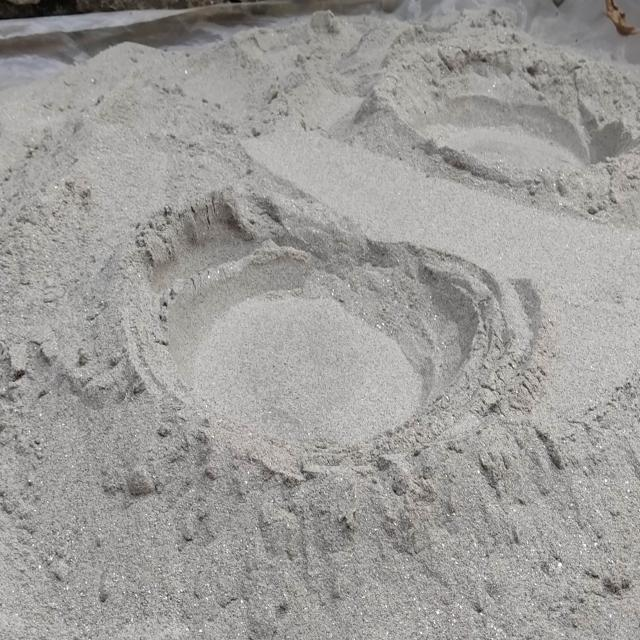C20: (154, 202, 472, 447), (365, 17, 609, 210)
